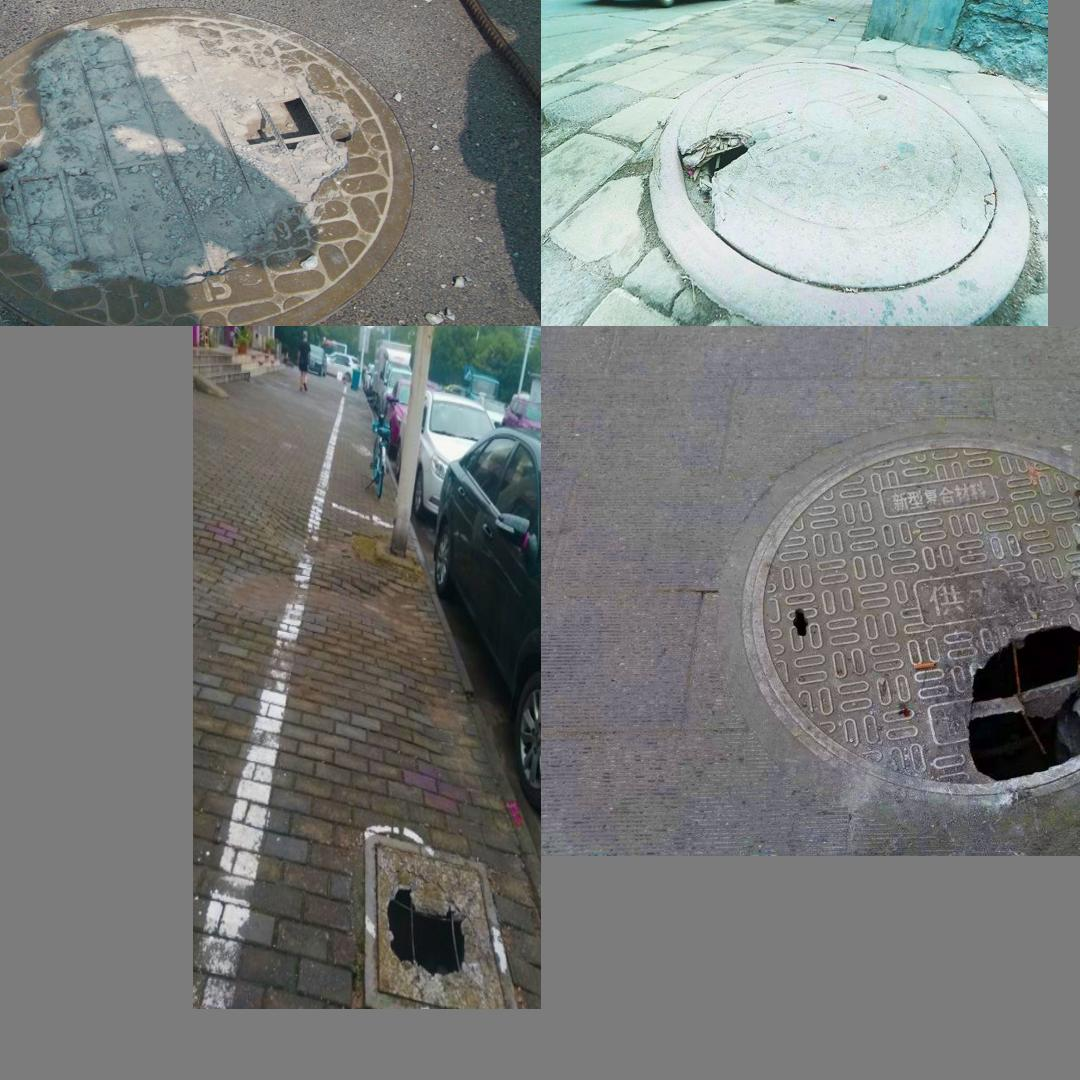broke: (0, 2, 417, 326), (739, 443, 1080, 794), (678, 60, 997, 292), (362, 830, 521, 1009)
